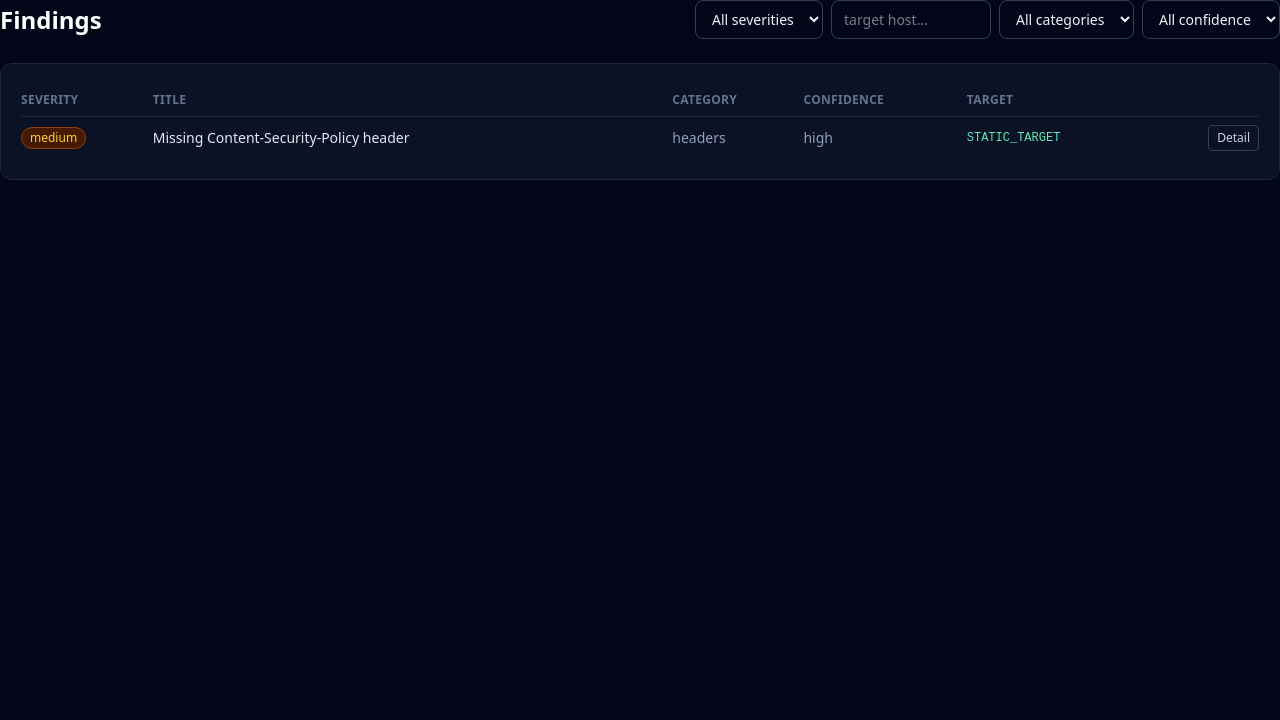
Scenario: Findings page (§9) › opens a detail dialog with the full finding contract
Click the button "Detail" at (1234, 138), box [1208,125,1259,151]
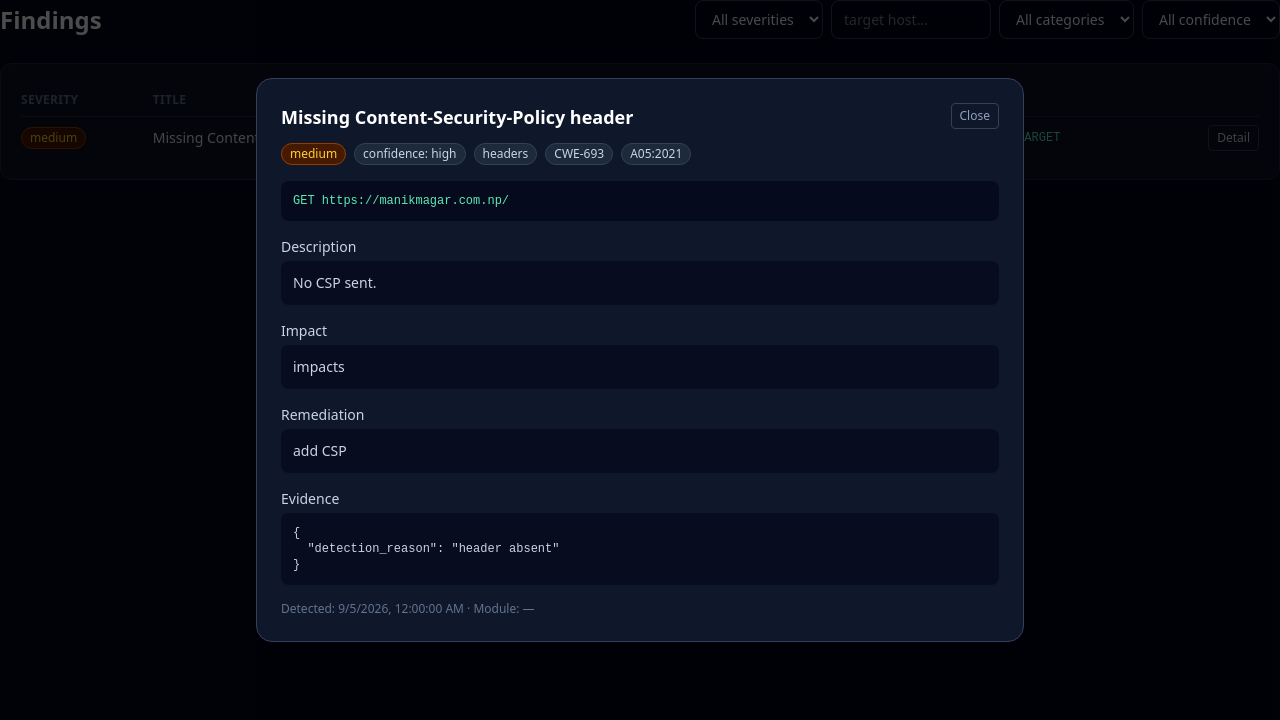
Result: the heading "Description" is shown at [281,237,356,256]
Result: the text "No CSP sent." is shown at [281,261,999,305]
Result: the heading "Impact" is shown at [281,321,327,340]
